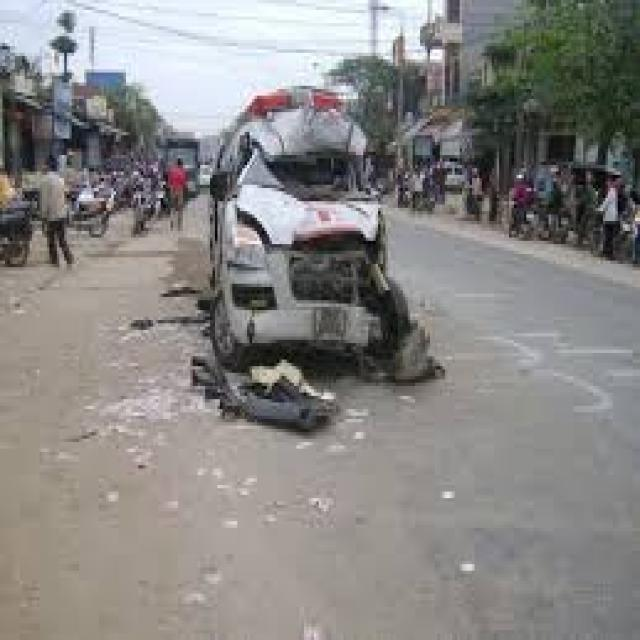accident: (170, 51, 449, 442)
